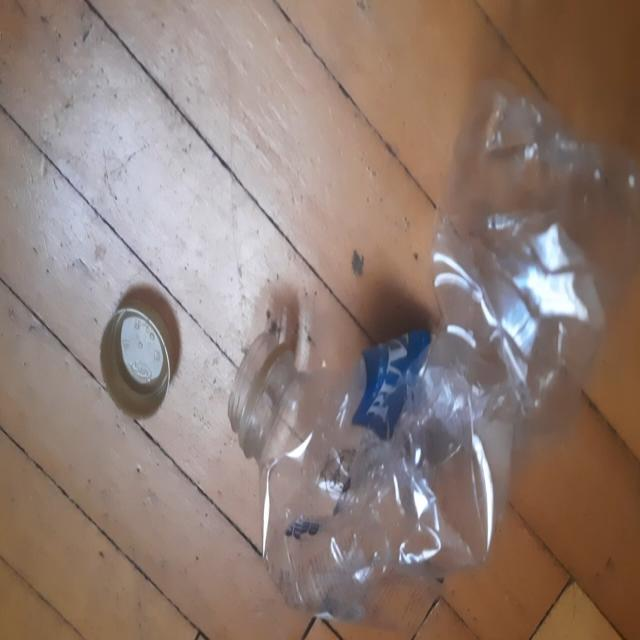Plastic: (228, 80, 636, 623)
